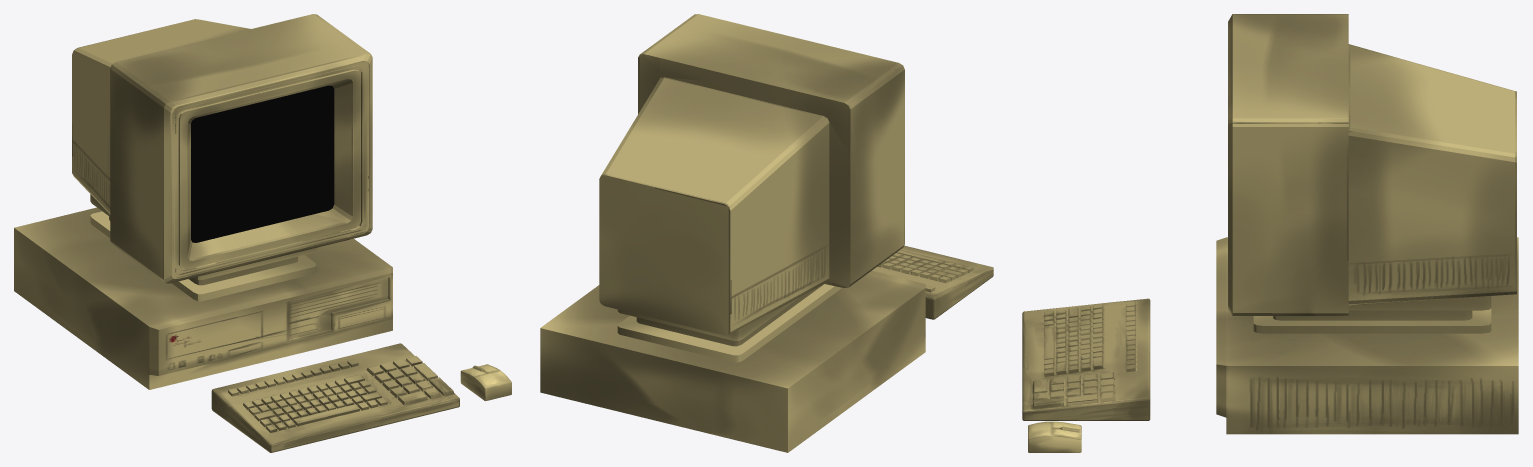
The picture shows the model from 3 angles, left to right: view 1: azimuth 30°, elevation 25°; view 2: azimuth 150°, elevation 25°; view 3: azimuth 270°, elevation 25°; orthographic projection. The views are drawn at different scales.
Parts seen in each view (by area): view 1: Cube, Cube.002, Cube.003, Cube.001, Cube.004; view 2: Cube, Cube.002, Cube.001, Cube.003; view 3: Cube, Cube.002, Cube.003, Cube.001, Cube.004.
Boxes of the visible parts, box(x1,y1,x2,y2) form: Cube: box(72, 14, 372, 283); Cube.002: box(14, 207, 392, 389); Cube.003: box(211, 343, 459, 452); Cube.001: box(90, 194, 316, 301); Cube.004: box(460, 364, 511, 400); Cube: box(599, 14, 904, 335); Cube.002: box(540, 271, 925, 452); Cube.001: box(617, 284, 842, 362); Cube.003: box(872, 245, 993, 319); Cube: box(1228, 14, 1516, 315); Cube.002: box(1216, 237, 1518, 434); Cube.003: box(1022, 298, 1150, 420); Cube.001: box(1253, 296, 1491, 333); Cube.004: box(1028, 421, 1081, 452).
Bounding box in the file's own units: 2.85 × 2.86 × 4.18.
Materials: 5 (4 with a texture image).
